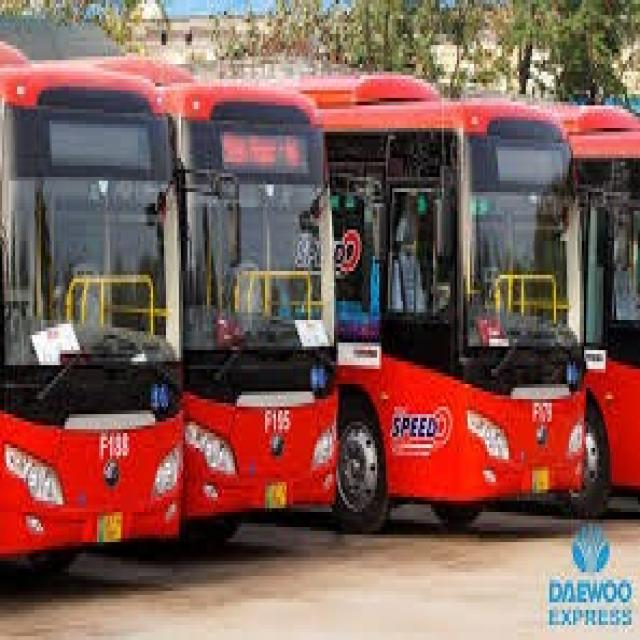bus: (322, 58, 596, 592), (0, 41, 185, 576), (167, 59, 346, 538)
